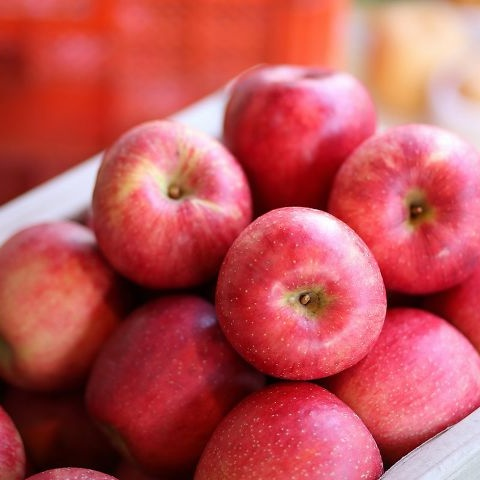apple: (212, 208, 394, 373), (87, 292, 251, 468), (92, 118, 253, 289), (218, 61, 371, 230), (336, 122, 480, 295), (346, 302, 480, 457), (1, 219, 124, 378), (196, 381, 385, 480)
